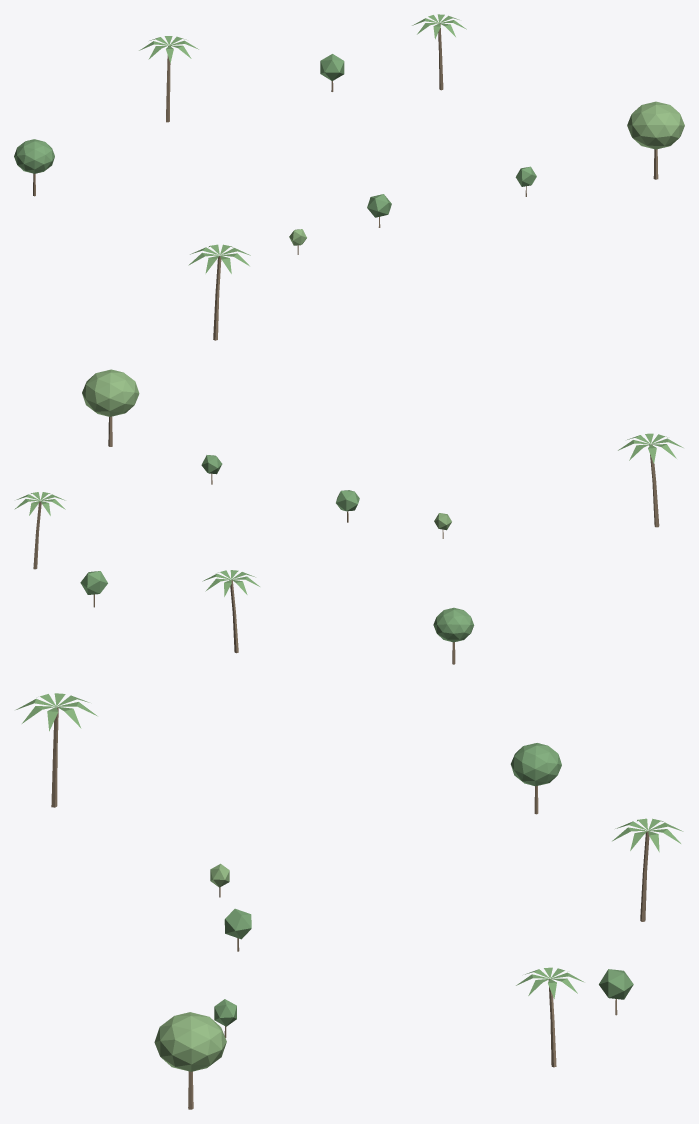
The model's file is nature_5_4.glb.
3 renders of one model, top to bottom at view 1: azimuth 30°, elevation 25°; view 2: azimuth 150°, elevation 25°; view 3: azimuth 270°, elevation 25°, orthographic. The views are drawn at different scales.
Parts seen in each view (by area): view 1: foliage_a, foliage_b, palm_leaf, trunk; view 2: foliage_b, foliage_a, palm_leaf, trunk; view 3: foliage_b, foliage_a, palm_leaf, trunk.
Boxes of the visible parts, x1,y1,x2,y2 form: foliage_a: [14, 54, 536, 217]; foliage_b: [289, 101, 684, 245]; palm_leaf: [139, 14, 466, 273]; trunk: [33, 24, 658, 340]; foliage_b: [82, 369, 451, 530]; foliage_a: [80, 455, 474, 642]; palm_leaf: [14, 433, 683, 596]; trunk: [33, 416, 659, 664]; foliage_b: [154, 863, 229, 1071]; foliage_a: [214, 743, 633, 1026]; palm_leaf: [16, 693, 683, 998]; trunk: [51, 707, 649, 1109].
Size of what is drawn, in the model's own units: 56.28 by 8.47 by 48.13.
